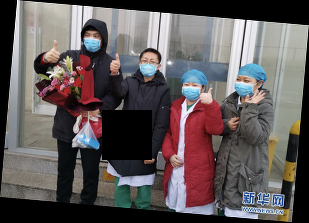with_mask: (233, 76, 257, 99), (181, 81, 202, 102), (139, 56, 158, 79), (81, 31, 101, 52)
